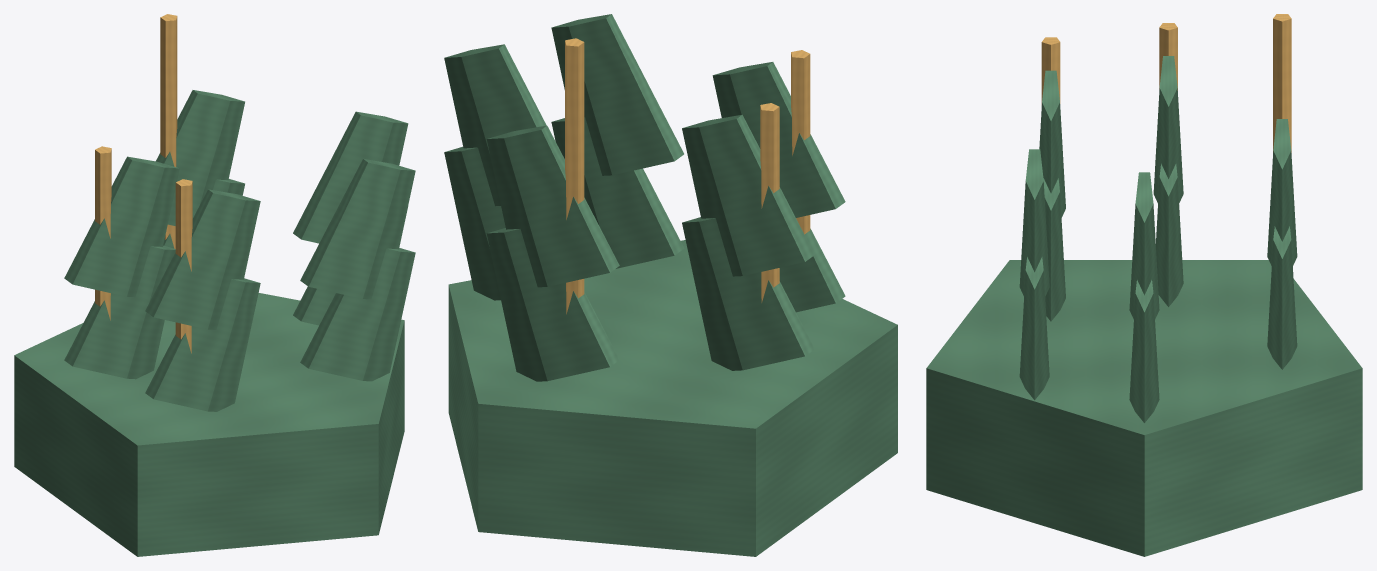
The model's file is atlas100-s001-a12.lod1.glb.
3 renders of one model, left to right at view 1: azimuth 30°, elevation 25°; view 2: azimuth 150°, elevation 25°; view 3: azimuth 270°, elevation 25°, orthographic. The views are drawn at different scales.
Parts seen in each view (by area): view 1: atlas100-s001-a12:part-000, atlas100-s001-a12:part-012, atlas100-s001-a12:part-006, atlas100-s001-a12:part-015, atlas100-s001-a12:part-011, atlas100-s001-a12:part-005, atlas100-s001-a12:part-014, atlas100-s001-a12:part-009, atlas100-s001-a12:part-003, atlas100-s001-a12:part-007, atlas100-s001-a12:part-004, atlas100-s001-a12:part-013 (+2 smaller); view 2: atlas100-s001-a12:part-000, atlas100-s001-a12:part-015, atlas100-s001-a12:part-009, atlas100-s001-a12:part-012, atlas100-s001-a12:part-014, atlas100-s001-a12:part-008, atlas100-s001-a12:part-006, atlas100-s001-a12:part-003, atlas100-s001-a12:part-011, atlas100-s001-a12:part-002, atlas100-s001-a12:part-007, atlas100-s001-a12:part-005 (+2 smaller); view 3: atlas100-s001-a12:part-000, atlas100-s001-a12:part-008, atlas100-s001-a12:part-002, atlas100-s001-a12:part-011, atlas100-s001-a12:part-014, atlas100-s001-a12:part-003, atlas100-s001-a12:part-015, atlas100-s001-a12:part-012, atlas100-s001-a12:part-009, atlas100-s001-a12:part-006, atlas100-s001-a12:part-005, atlas100-s001-a12:part-007 (+2 smaller).
Boxes of the visible parts, x1,y1,x2,y2 form: atlas100-s001-a12:part-000: (14, 293, 404, 556); atlas100-s001-a12:part-012: (300, 159, 415, 299); atlas100-s001-a12:part-006: (145, 189, 260, 329); atlas100-s001-a12:part-015: (64, 156, 179, 297); atlas100-s001-a12:part-011: (300, 247, 415, 381); atlas100-s001-a12:part-005: (145, 278, 260, 411); atlas100-s001-a12:part-014: (64, 245, 175, 379); atlas100-s001-a12:part-009: (156, 90, 244, 225); atlas100-s001-a12:part-003: (293, 111, 408, 243); atlas100-s001-a12:part-007: (160, 14, 177, 248); atlas100-s001-a12:part-004: (175, 179, 192, 353); atlas100-s001-a12:part-013: (95, 146, 111, 320); atlas100-s001-a12:part-000: (448, 240, 897, 556); atlas100-s001-a12:part-015: (682, 114, 814, 276); atlas100-s001-a12:part-009: (486, 125, 619, 287); atlas100-s001-a12:part-012: (551, 14, 683, 175); atlas100-s001-a12:part-014: (682, 217, 814, 370); atlas100-s001-a12:part-008: (486, 228, 619, 381); atlas100-s001-a12:part-006: (712, 62, 845, 217); atlas100-s001-a12:part-003: (444, 44, 546, 206); atlas100-s001-a12:part-011: (551, 117, 684, 268); atlas100-s001-a12:part-002: (444, 146, 505, 300); atlas100-s001-a12:part-007: (565, 38, 584, 314); atlas100-s001-a12:part-005: (779, 228, 845, 312); atlas100-s001-a12:part-000: (926, 260, 1362, 556); atlas100-s001-a12:part-008: (1267, 226, 1297, 369); atlas100-s001-a12:part-002: (1129, 280, 1159, 422); atlas100-s001-a12:part-011: (1019, 257, 1049, 400); atlas100-s001-a12:part-014: (1155, 163, 1183, 306); atlas100-s001-a12:part-003: (1129, 172, 1159, 319); atlas100-s001-a12:part-015: (1153, 56, 1183, 203); atlas100-s001-a12:part-012: (1019, 149, 1049, 296); atlas100-s001-a12:part-009: (1267, 119, 1297, 265); atlas100-s001-a12:part-006: (1039, 70, 1065, 217); atlas100-s001-a12:part-005: (1043, 178, 1065, 321); atlas100-s001-a12:part-007: (1273, 14, 1291, 152).
Size of the model in its own units: 1.06 by 1.25 by 1.1.
2 materials, 2 textured.
